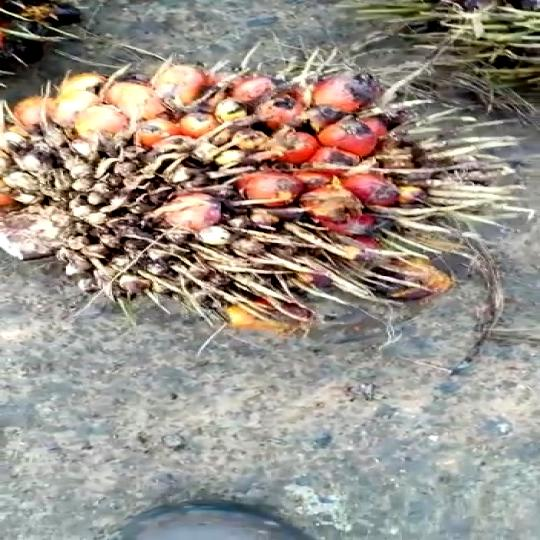masak: (0, 60, 505, 342)
